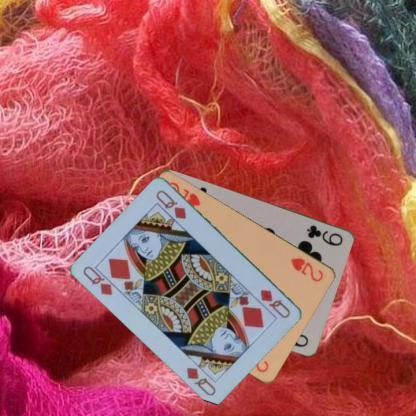2h: (288, 254, 325, 284)
9c: (304, 222, 344, 247)
Qd: (80, 263, 122, 297), (257, 286, 292, 320)
